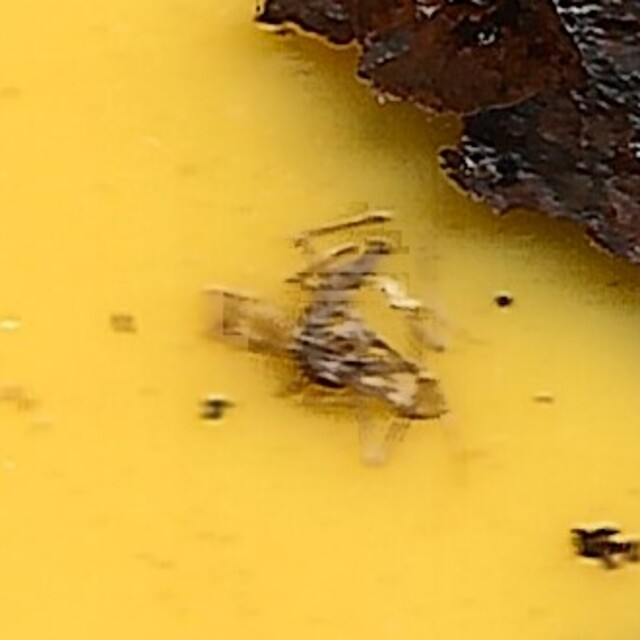Nematocera: (194, 202, 446, 438)
